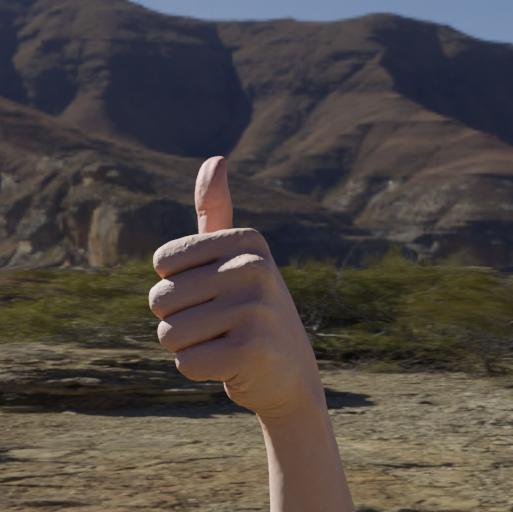thumbs-up: (147, 152, 324, 430)
